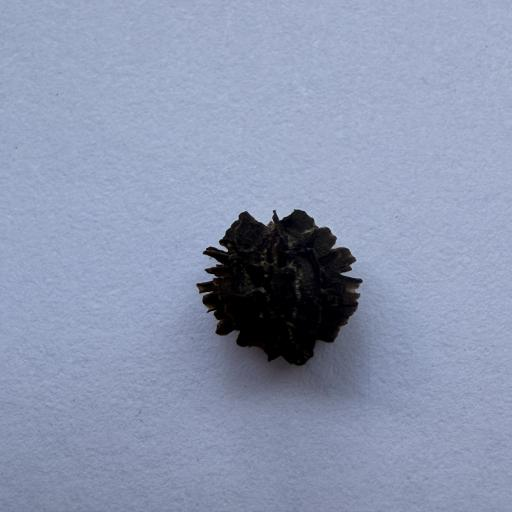papaya_seed: (174, 187, 396, 379)
